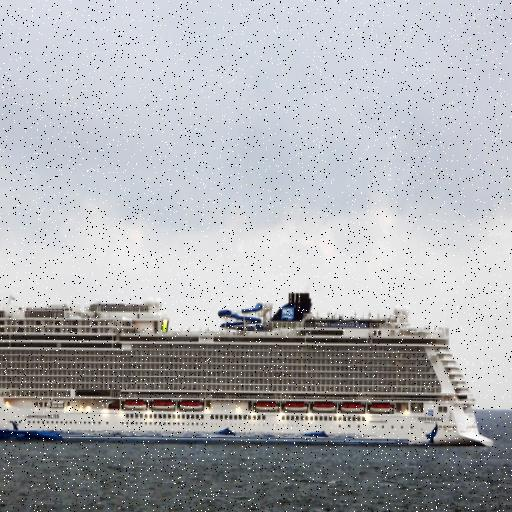cruises: (1, 289, 498, 456)
